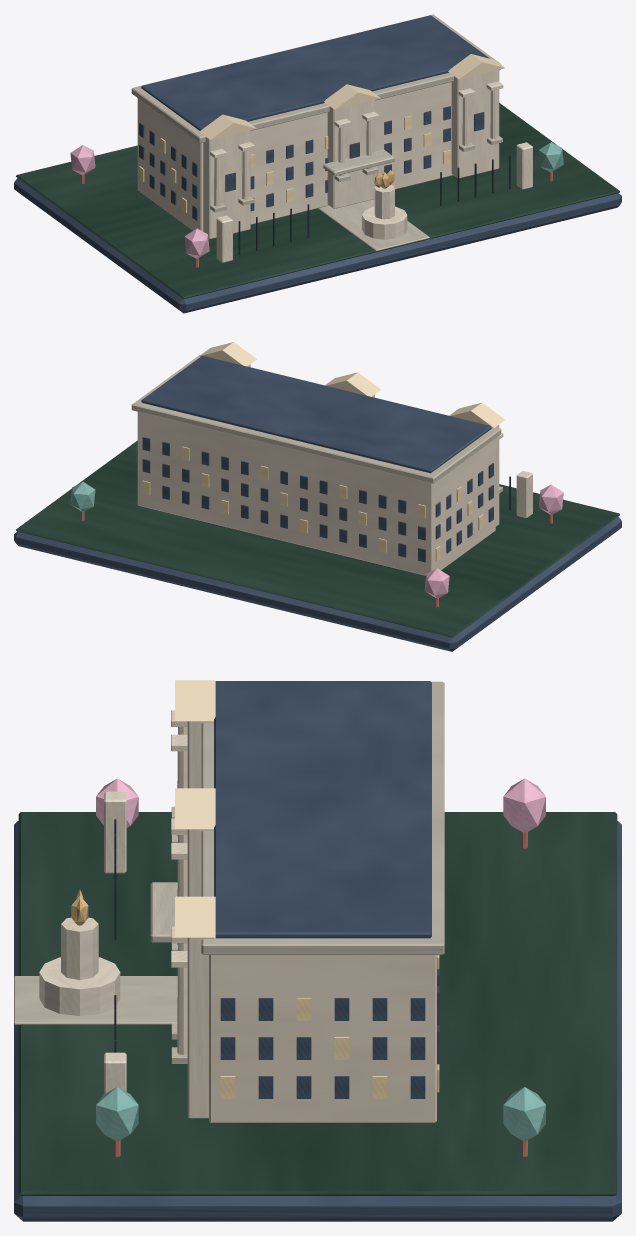
Rendered from buckingham-palace-diorama.glb.
3 renders of one model, top to bottom at view 1: azimuth 30°, elevation 25°; view 2: azimuth 150°, elevation 25°; view 3: azimuth 270°, elevation 25°, orthographic. The views are drawn at different scales.
Parts seen in each view (by area): view 1: buckingham-palace; view 2: buckingham-palace; view 3: buckingham-palace.
Part boxes in pixels (box(x1,y1,x2,y2)): buckingham-palace: box(14, 14, 621, 313); buckingham-palace: box(14, 342, 621, 651); buckingham-palace: box(14, 680, 621, 1221).
Bounding box in the file's own units: 18 × 5.32 × 12.
1 material, 1 textured.
